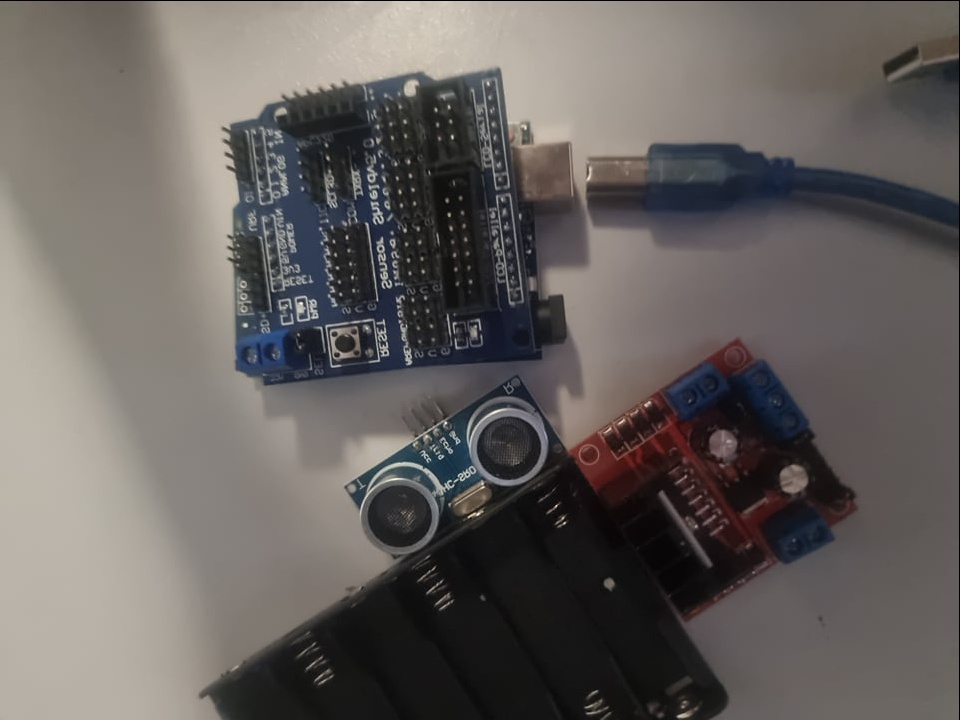BATTERY BOX: (206, 453, 729, 719)
MOTOR: (573, 330, 857, 621)
SENSOR: (344, 371, 562, 553)
UNO R3: (224, 58, 511, 372)
